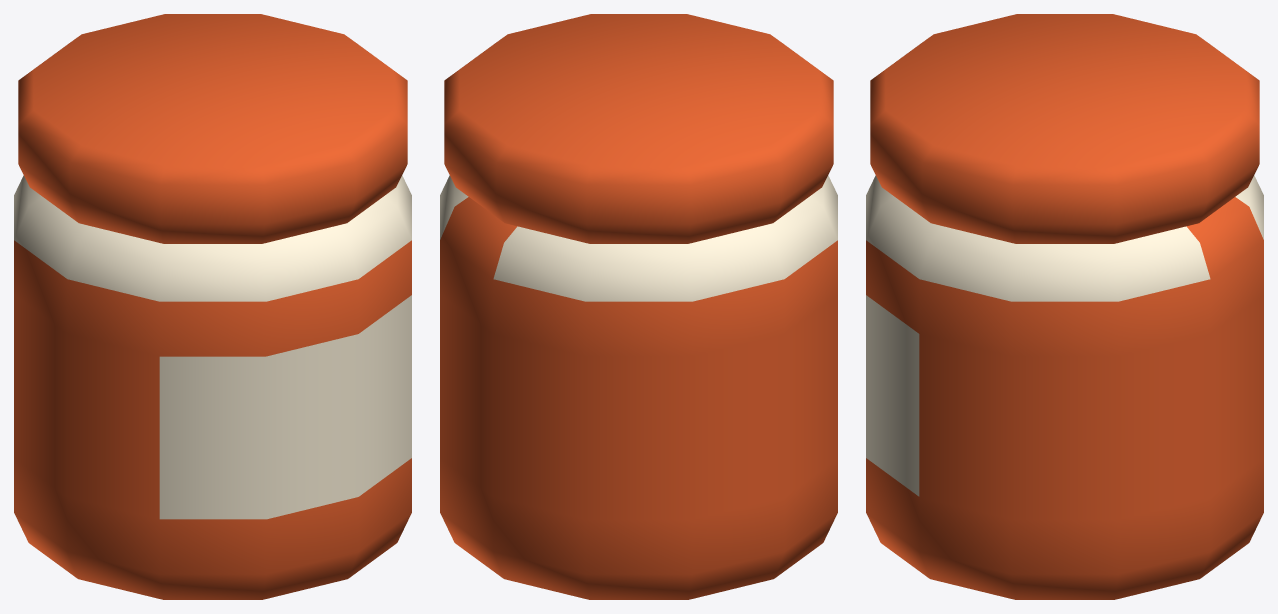
The model's file is Jam.fbx.
The picture shows the model from 3 angles, left to right: view 1: azimuth 30°, elevation 25°; view 2: azimuth 150°, elevation 25°; view 3: azimuth 270°, elevation 25°; orthographic projection.
Visible parts, largest first — view 1: jam; view 2: jam; view 3: jam.
Boxes of the visible parts, x1,y1,x2,y2 form: jam: (14,14,411,599); jam: (440,14,837,599); jam: (866,14,1263,599).
Size of the model in its own units: 39 by 48.19 by 39.
